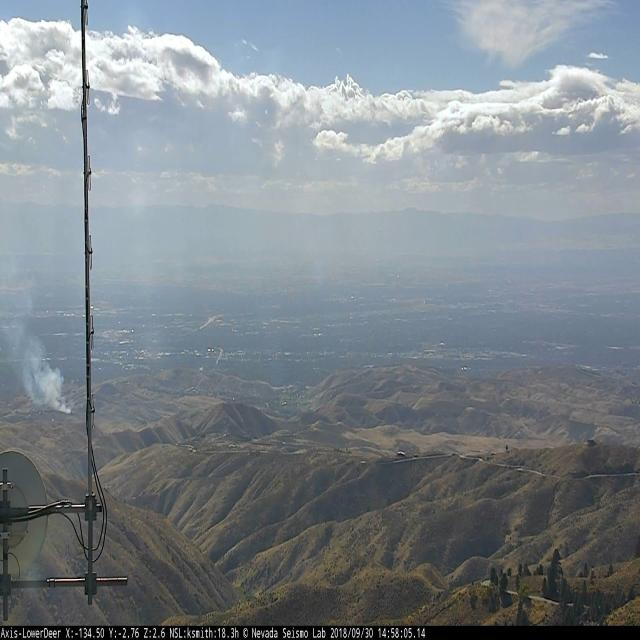smoke: (0, 295, 72, 415)
